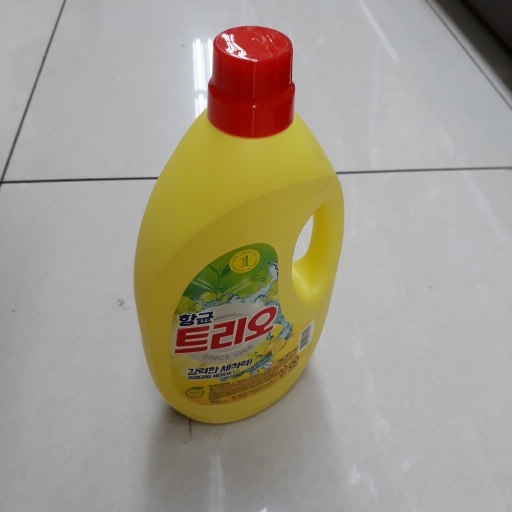Plastic_1: (134, 25, 344, 424)
